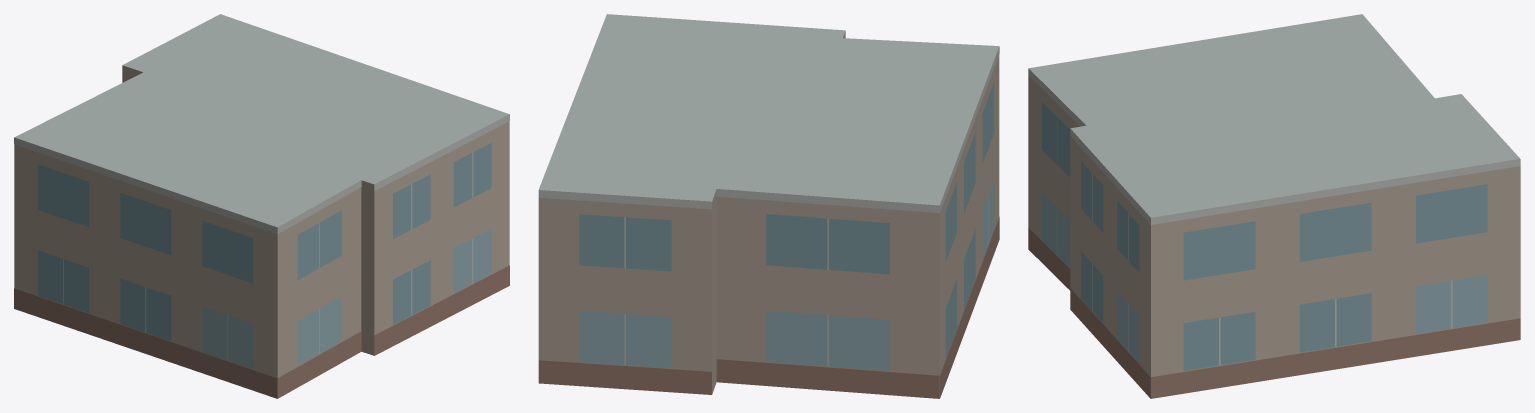
Rendered from survey-upis-32796421.glb.
3 views of the same model, side by side, from view 1: azimuth 30°, elevation 25°; view 2: azimuth 150°, elevation 25°; view 3: azimuth 270°, elevation 25° (orthographic). The views are drawn at different scales.
Parts seen in each view (by area): view 1: survey-upis-32796421.tmp; view 2: survey-upis-32796421.tmp; view 3: survey-upis-32796421.tmp.
Boxes of the visible parts, x1,y1,x2,y2 form: survey-upis-32796421.tmp: (14, 14, 509, 398); survey-upis-32796421.tmp: (538, 14, 999, 398); survey-upis-32796421.tmp: (1028, 14, 1520, 398).
Size of the model in its own units: 14.73 by 6.1 by 15.03.
